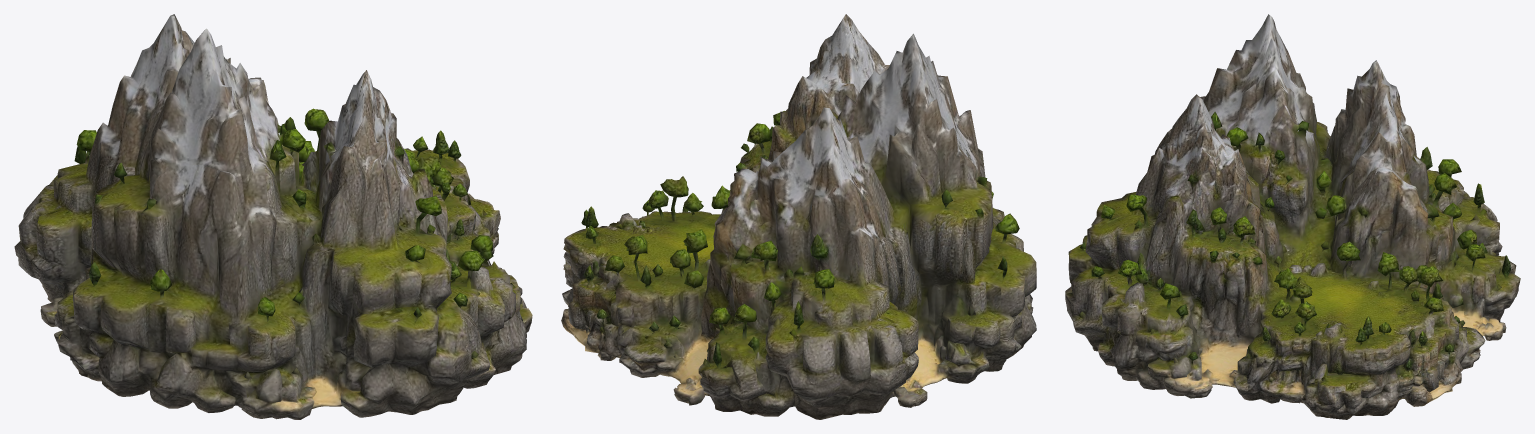
File: mountain.glb
3 renders of one model, left to right at view 1: azimuth 30°, elevation 25°; view 2: azimuth 150°, elevation 25°; view 3: azimuth 270°, elevation 25°, orthographic. The views are drawn at different scales.
Visible parts, largest first — view 1: tripo_node_5bfa62b0-4daf-4fe2-897b-6be8416fb546; view 2: tripo_node_5bfa62b0-4daf-4fe2-897b-6be8416fb546; view 3: tripo_node_5bfa62b0-4daf-4fe2-897b-6be8416fb546.
Boxes of the visible parts, x1,y1,x2,y2 form: tripo_node_5bfa62b0-4daf-4fe2-897b-6be8416fb546: (14, 14, 532, 419); tripo_node_5bfa62b0-4daf-4fe2-897b-6be8416fb546: (561, 14, 1036, 419); tripo_node_5bfa62b0-4daf-4fe2-897b-6be8416fb546: (1065, 14, 1520, 419).
Size of the model in its own units: 0.9594 by 0.6591 by 0.9798.
Materials: 1 (1 with a texture image).
